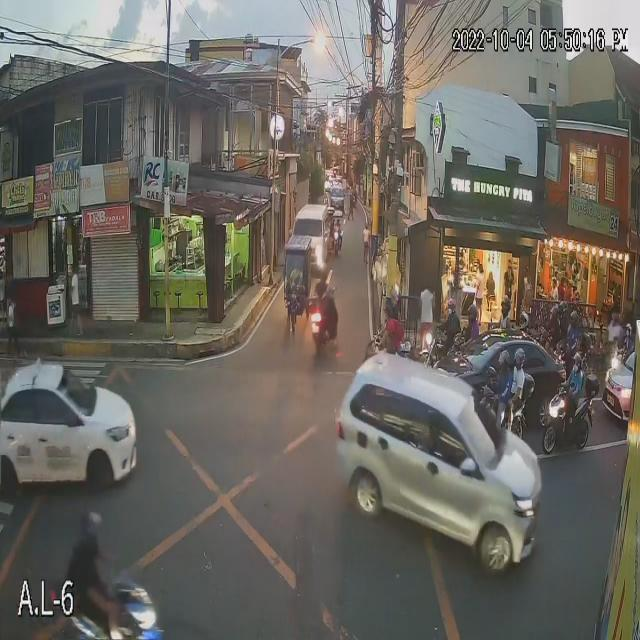helmet: (74, 507, 104, 545), (498, 295, 514, 318), (572, 348, 585, 374), (500, 348, 512, 374), (567, 312, 581, 328), (514, 349, 525, 369), (623, 321, 635, 339), (559, 298, 571, 314), (518, 310, 530, 325), (547, 305, 559, 320), (466, 308, 477, 323), (446, 297, 456, 311)
motorcycle: (70, 568, 162, 640), (541, 381, 597, 453), (498, 376, 527, 437), (310, 304, 335, 356), (426, 333, 448, 362)
rider: (61, 506, 116, 619), (566, 346, 592, 399), (510, 343, 533, 402), (312, 259, 336, 314), (490, 343, 513, 399), (442, 297, 460, 342), (565, 308, 588, 343), (494, 291, 514, 330), (464, 305, 484, 339), (544, 301, 559, 346), (556, 297, 574, 334), (619, 315, 637, 352), (518, 306, 530, 333)
